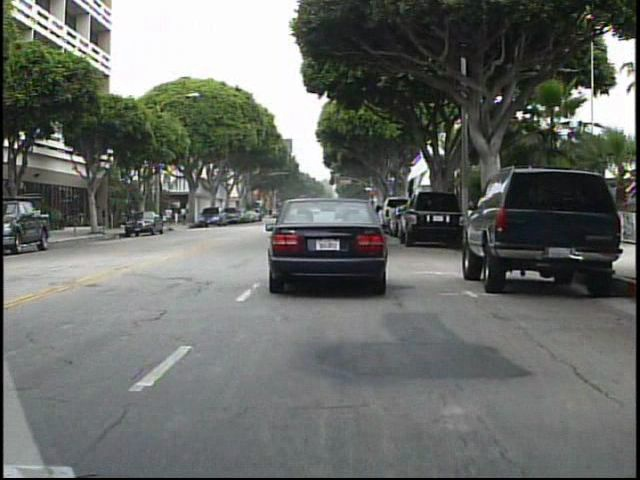person: (180, 203, 192, 227), (167, 205, 177, 227)
